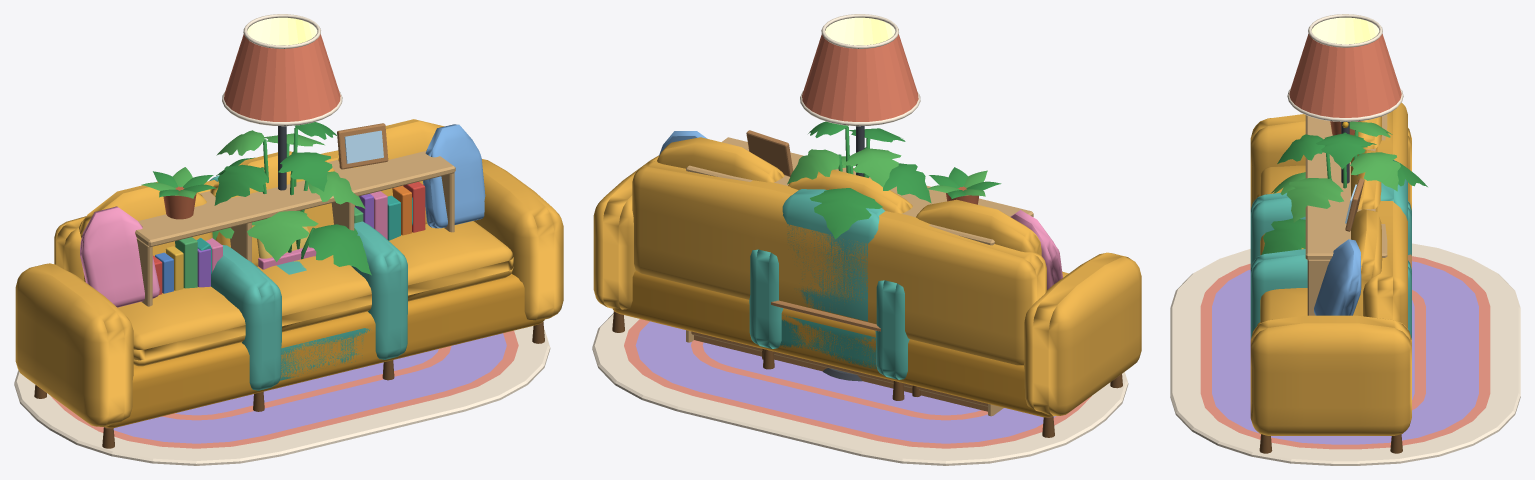
The model's file is casa-sala.glb.
3 renders of one model, left to right at view 1: azimuth 30°, elevation 25°; view 2: azimuth 150°, elevation 25°; view 3: azimuth 270°, elevation 25°, orthographic. The views are drawn at different scales.
Visible parts, largest first — view 1: sofa, tapete, estante-baixa, poltrona, luminaria-pe, planta; view 2: sofa, tapete, poltrona, luminaria-pe, estante-baixa, planta, mesinha-centro; view 3: tapete, sofa, luminaria-pe, planta, estante-baixa, poltrona.
Part boxes in pixels (x1,y1,x2,y2): sofa: (15, 119, 563, 448); tapete: (14, 326, 550, 465); estante-baixa: (135, 123, 455, 306); poltrona: (209, 175, 407, 411); luminaria-pe: (222, 14, 342, 190); planta: (212, 122, 371, 275); sofa: (593, 131, 1141, 437); tapete: (592, 313, 1128, 465); poltrona: (749, 189, 909, 400); luminaria-pe: (800, 14, 920, 381); estante-baixa: (686, 130, 1033, 416); planta: (787, 121, 931, 239); mesinha-centro: (762, 300, 920, 396); tapete: (1170, 243, 1520, 465); sofa: (1250, 102, 1411, 453); luminaria-pe: (1287, 14, 1403, 183); planta: (1261, 121, 1427, 254); estante-baixa: (1305, 114, 1387, 315); poltrona: (1250, 160, 1411, 339).
Bounding box in the file's own units: 2.8 × 2.27 × 1.85.
